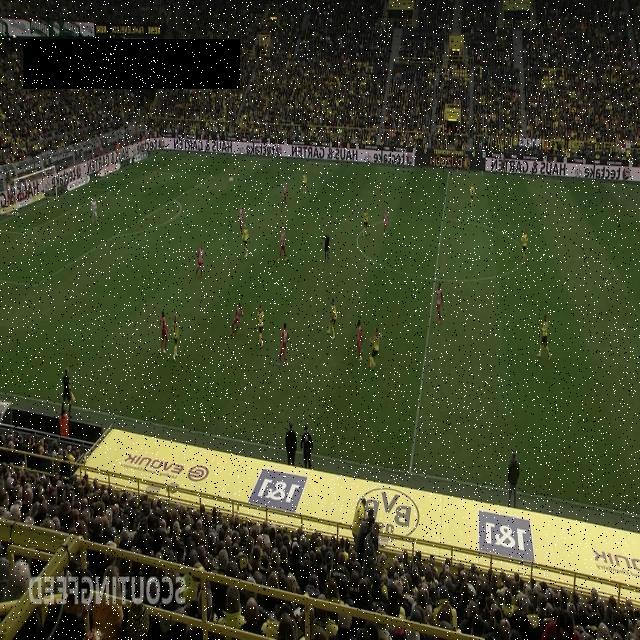Ball: (228, 175, 234, 183)
Corner: (156, 135, 166, 155)
GoalKeeper: (90, 196, 98, 226)
Referee: (61, 367, 76, 418), (324, 230, 331, 262), (500, 155, 506, 176)
TEAM 1: (276, 322, 290, 368), (231, 302, 245, 338), (158, 310, 168, 355), (276, 228, 288, 262), (355, 319, 363, 362), (436, 282, 444, 324), (196, 244, 204, 278), (382, 209, 390, 236), (238, 204, 244, 236), (281, 183, 288, 208)
TEAM 2: (366, 326, 384, 369), (536, 313, 552, 361), (170, 314, 180, 362), (256, 304, 264, 348), (329, 298, 337, 341), (241, 224, 249, 258), (521, 228, 529, 262), (362, 207, 368, 237), (469, 182, 475, 206), (302, 170, 308, 194)
